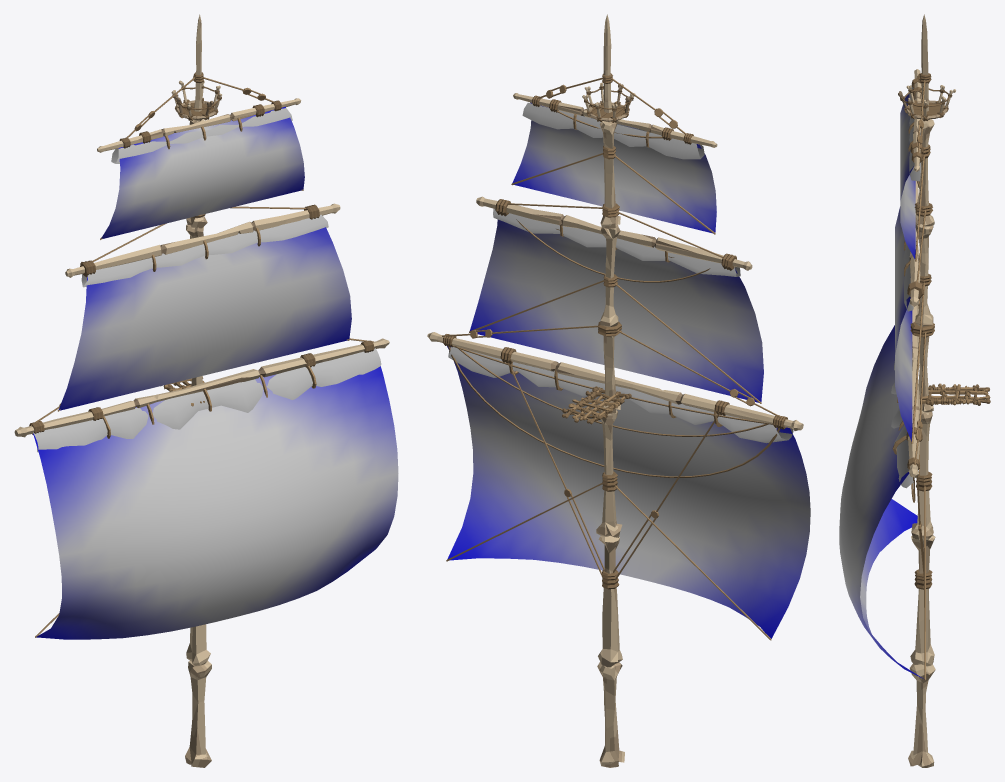
File: SM_Veh_Ship_L_Mast_Middle_02.fbx
The picture shows the model from 3 angles, left to right: view 1: azimuth 30°, elevation 25°; view 2: azimuth 150°, elevation 25°; view 3: azimuth 270°, elevation 25°; orthographic projection.
Parts seen in each view (by area): view 1: SM_Veh_Ship_L_Mast_Middle_01_Boom_02_Sails_Down_01, SM_Veh_Ship_L_Mast_Middle_02, SM_Veh_Ship_L_Mast_Middle_02_Boom_01; view 2: SM_Veh_Ship_L_Mast_Middle_01_Boom_02_Sails_Down_01, SM_Veh_Ship_L_Mast_Middle_02, SM_Veh_Ship_L_Mast_Middle_02_Boom_01; view 3: SM_Veh_Ship_L_Mast_Middle_01_Boom_02_Sails_Down_01, SM_Veh_Ship_L_Mast_Middle_02, SM_Veh_Ship_L_Mast_Middle_02_Boom_01.
Boxes of the visible parts, bbox=[...] form: SM_Veh_Ship_L_Mast_Middle_01_Boom_02_Sails_Down_01: bbox=[33, 106, 398, 639]; SM_Veh_Ship_L_Mast_Middle_02: bbox=[14, 14, 389, 767]; SM_Veh_Ship_L_Mast_Middle_02_Boom_01: bbox=[33, 108, 381, 452]; SM_Veh_Ship_L_Mast_Middle_01_Boom_02_Sails_Down_01: bbox=[446, 102, 810, 640]; SM_Veh_Ship_L_Mast_Middle_02: bbox=[427, 14, 803, 767]; SM_Veh_Ship_L_Mast_Middle_02_Boom_01: bbox=[448, 102, 793, 443]; SM_Veh_Ship_L_Mast_Middle_01_Boom_02_Sails_Down_01: bbox=[839, 94, 926, 680]; SM_Veh_Ship_L_Mast_Middle_02: bbox=[898, 14, 990, 767]; SM_Veh_Ship_L_Mast_Middle_02_Boom_01: bbox=[891, 85, 920, 488].
Size of the model in its own units: 2230 by 4282 by 781.
